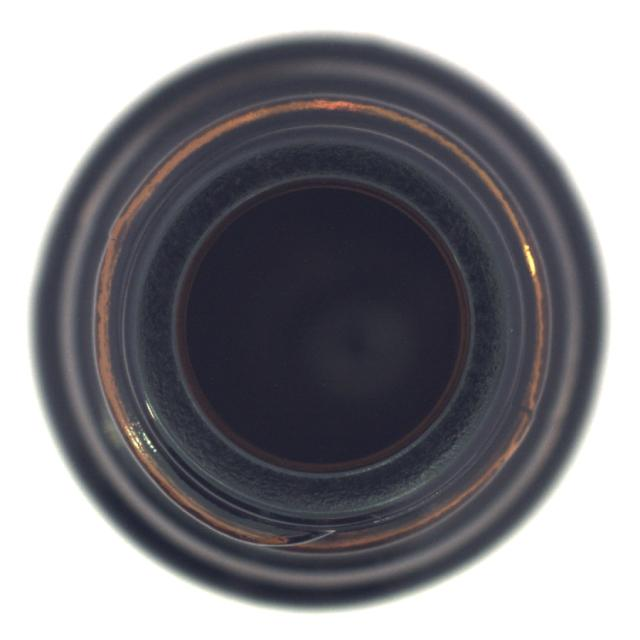bottle-good: (27, 31, 597, 608)
